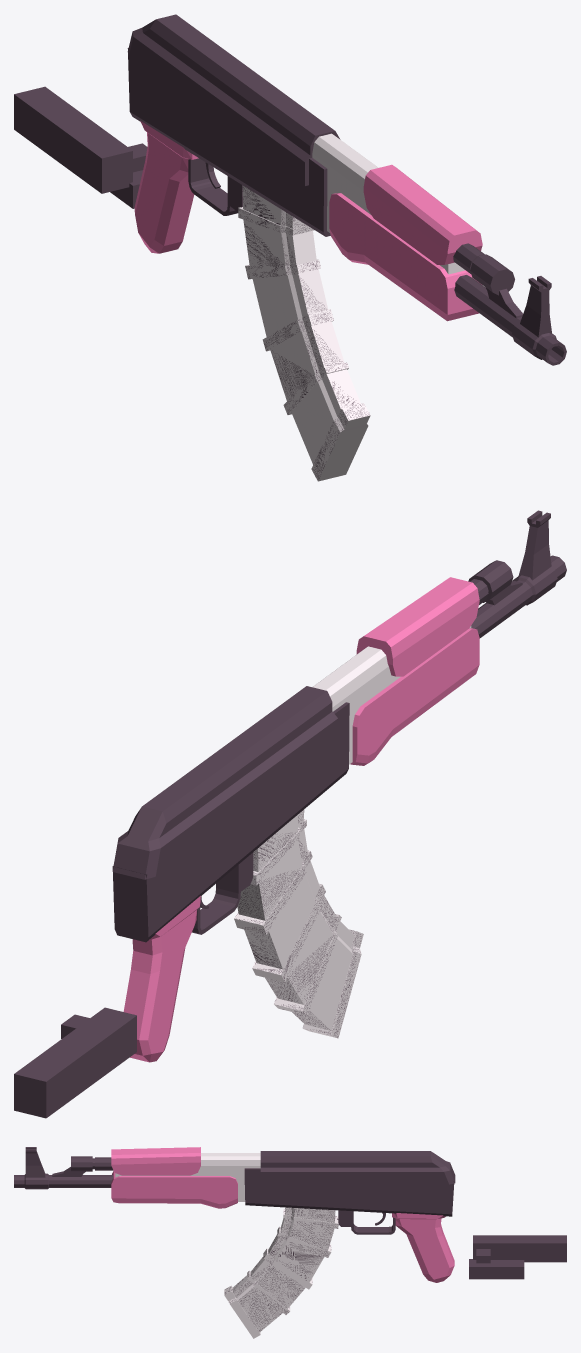
Rendered from AssaultRifle_3.obj.
The picture shows the model from 3 angles, top to bottom: view 1: azimuth 30°, elevation 25°; view 2: azimuth 150°, elevation 25°; view 3: azimuth 270°, elevation 25°; orthographic projection. The views are drawn at different scales.
Visible parts, largest first — view 1: Hardware, Body, Grip, Bolt, Mag; view 2: Hardware, Body, Grip, Bolt, Mag; view 3: Hardware, Body, Grip, Bolt, Mag.
Part boxes in pixels (x1,y1,x2,y2): Hardware: [110, 14, 566, 365]; Body: [238, 133, 464, 481]; Grip: [134, 120, 482, 321]; Bolt: [14, 86, 147, 193]; Mag: [238, 186, 369, 479]; Hardware: [112, 510, 566, 942]; Body: [234, 626, 471, 1038]; Grip: [123, 577, 479, 1062]; Bolt: [14, 1007, 136, 1118]; Mag: [235, 814, 361, 1037]; Hardware: [14, 1147, 524, 1279]; Body: [115, 1153, 338, 1338]; Grip: [111, 1147, 454, 1282]; Bolt: [473, 1235, 566, 1263]; Mag: [225, 1208, 338, 1330].
Size of the model in its own units: 0.4415 by 2.57 by 6.89.
